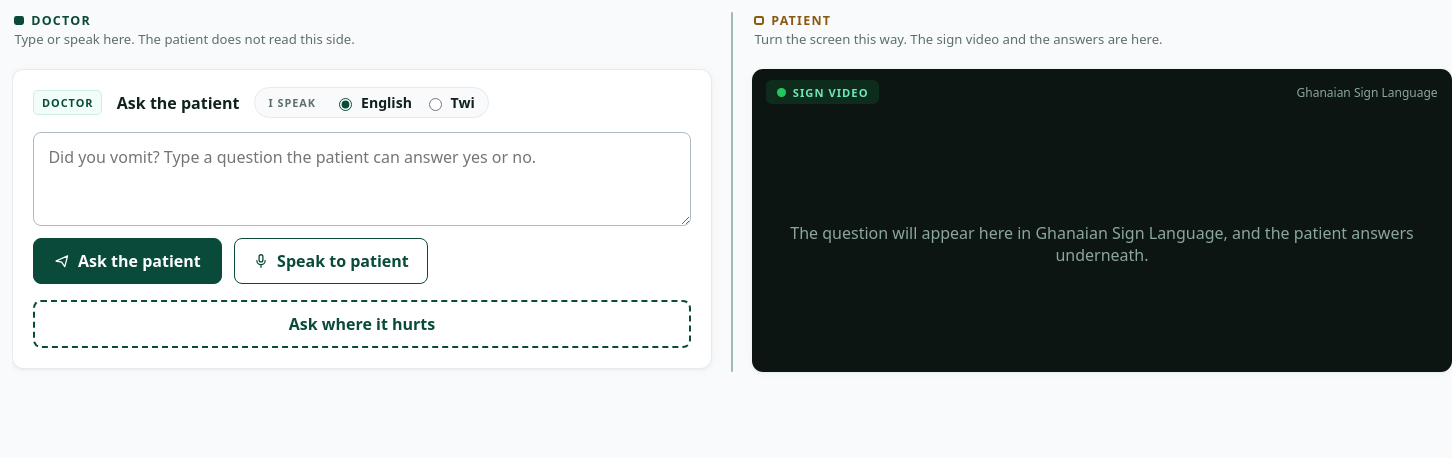
asking in the doctor's own words › reports a language failure rather than leaving the doctor waiting
The image size is (1452, 458).
Type "Did you vomit?" into the text box named "message for the patient".
click(362, 179); type("Did you vomit?")  # box [33,132,691,226]
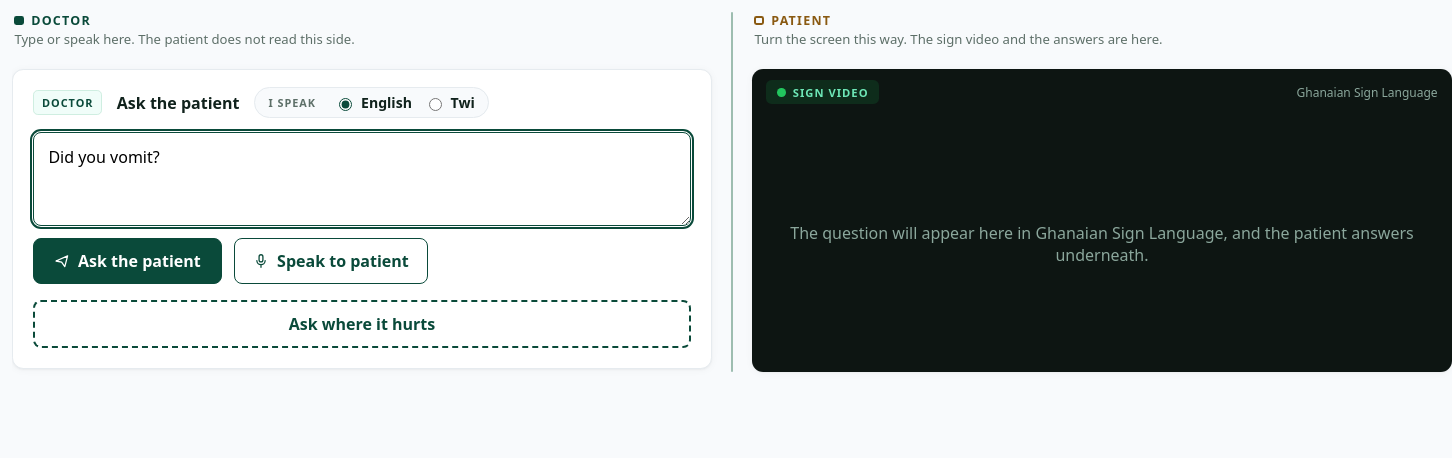
Click the button "Ask the patient".
click(127, 261)  # box [33,238,222,284]
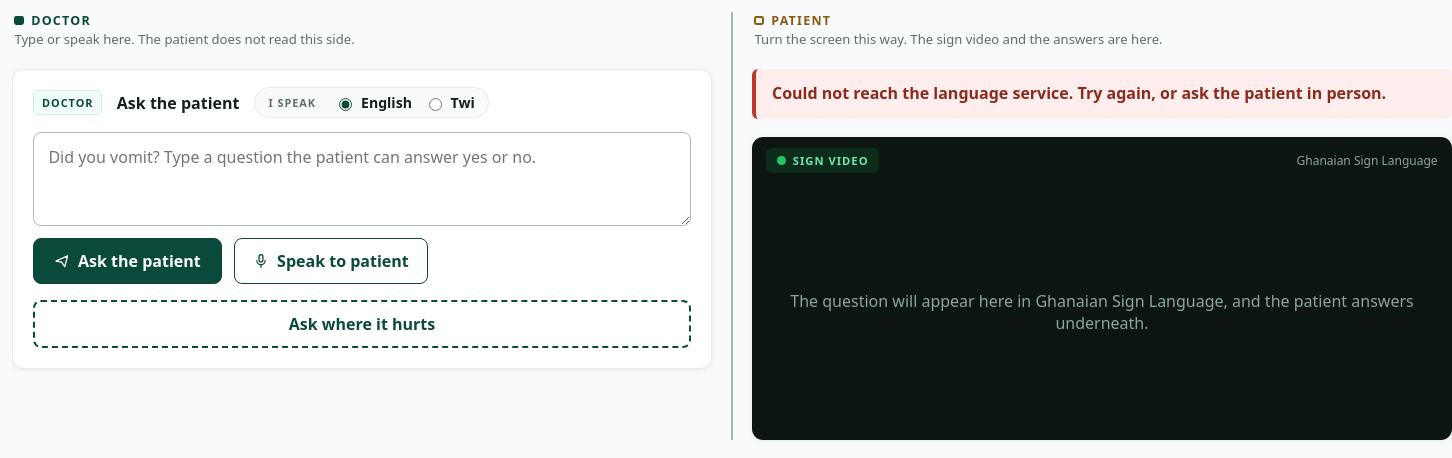
Check: the message "Could not reach the language service. Try again, or ask the patient in person." is shown, box [752,69,1451,119]
